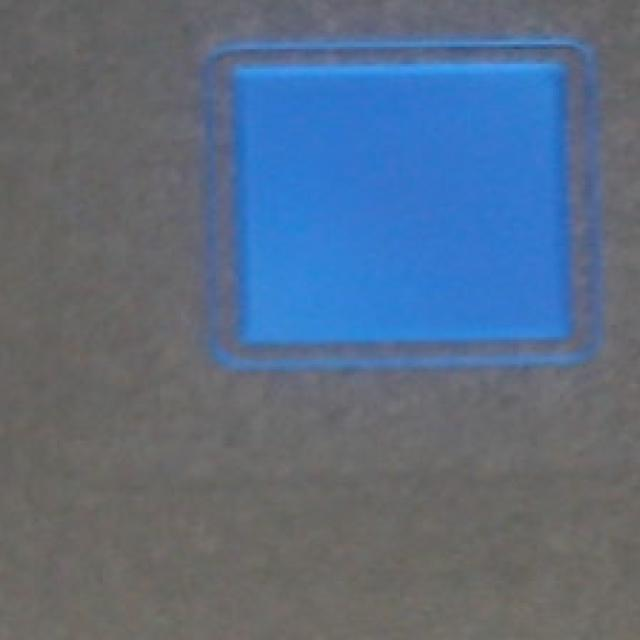noMistake: (213, 59, 590, 355)
